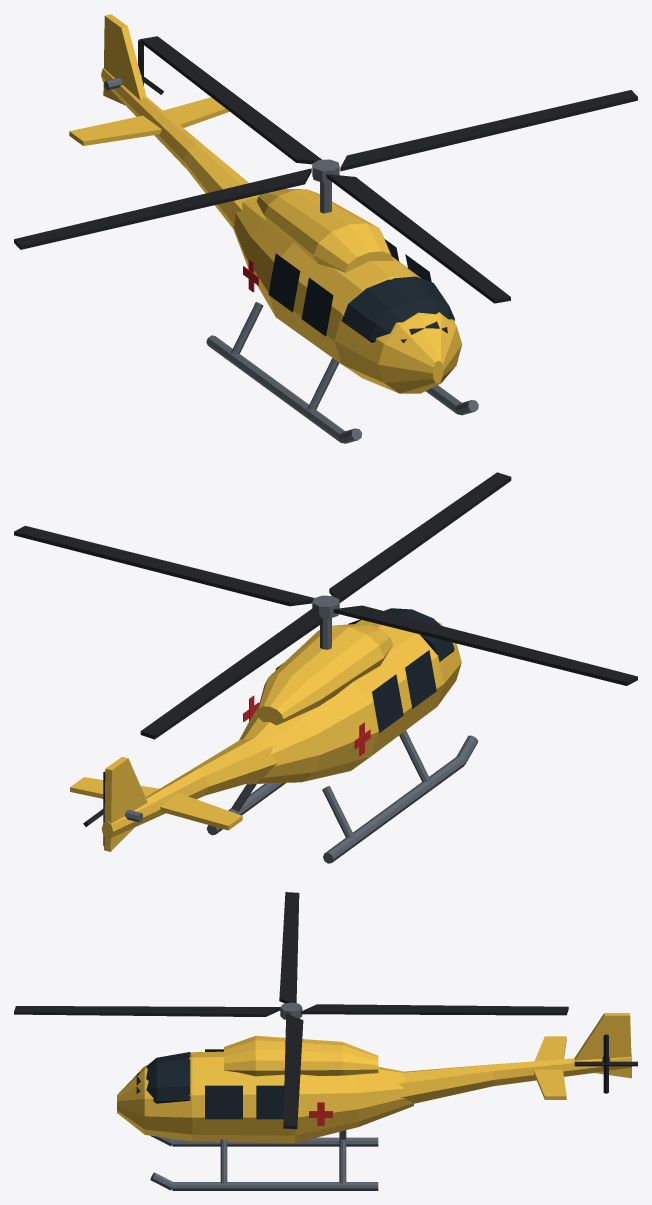
File: heli.glb
3 renders of one model, top to bottom at view 1: azimuth 30°, elevation 25°; view 2: azimuth 150°, elevation 25°; view 3: azimuth 270°, elevation 25°, orthographic. The views are drawn at different scales.
Visible parts, largest first — view 1: heli body, rotor; view 2: heli body, rotor; view 3: heli body, rotor.
Part boxes in pixels (bbox=[...]): heli body: bbox=[69, 14, 478, 443]; rotor: bbox=[14, 36, 637, 303]; heli body: bbox=[70, 608, 478, 863]; rotor: bbox=[14, 472, 637, 739]; heli body: bbox=[117, 1013, 637, 1190]; rotor: bbox=[14, 892, 568, 1129].
Bounding box in the file's own units: 14 × 4.5 × 15.75.
